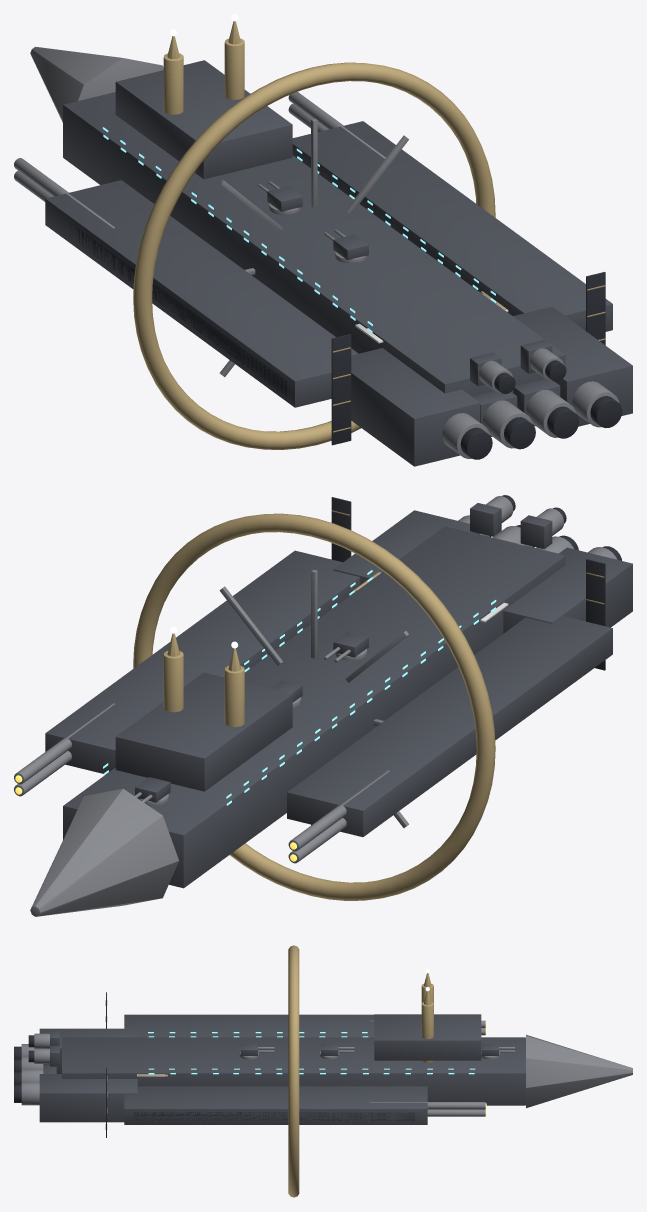
Rendered from titan.glb.
The picture shows the model from 3 angles, top to bottom: view 1: azimuth 30°, elevation 25°; view 2: azimuth 150°, elevation 25°; view 3: azimuth 270°, elevation 25°; orthographic projection. The views are drawn at different scales.
Parts seen in each view (by area): view 1: titan; view 2: titan; view 3: titan.
Boxes of the visible parts, x1=… form: titan: x1=14, y1=14, x2=632, y2=466; titan: x1=14, y1=495, x2=632, y2=916; titan: x1=14, y1=945, x2=632, y2=1197.
Bounding box in the file's own units: 28.3 × 28.3 × 69.37.
